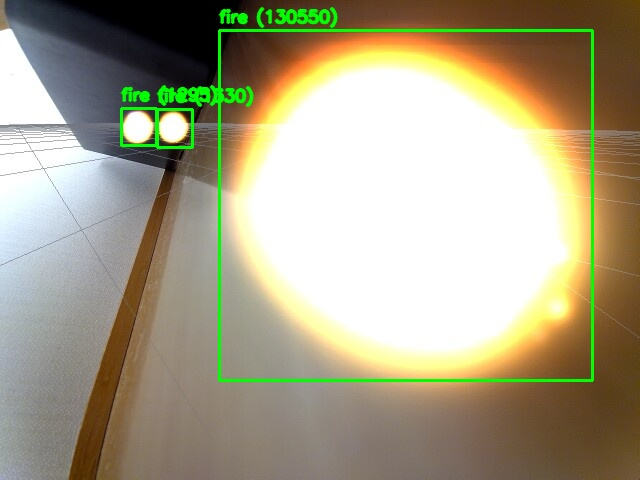fire: (219, 30, 592, 380), (157, 109, 192, 147), (121, 108, 156, 145)
